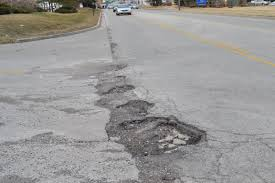pothole: (100, 119, 213, 150), (114, 99, 155, 113), (104, 83, 144, 95), (103, 74, 132, 79)
